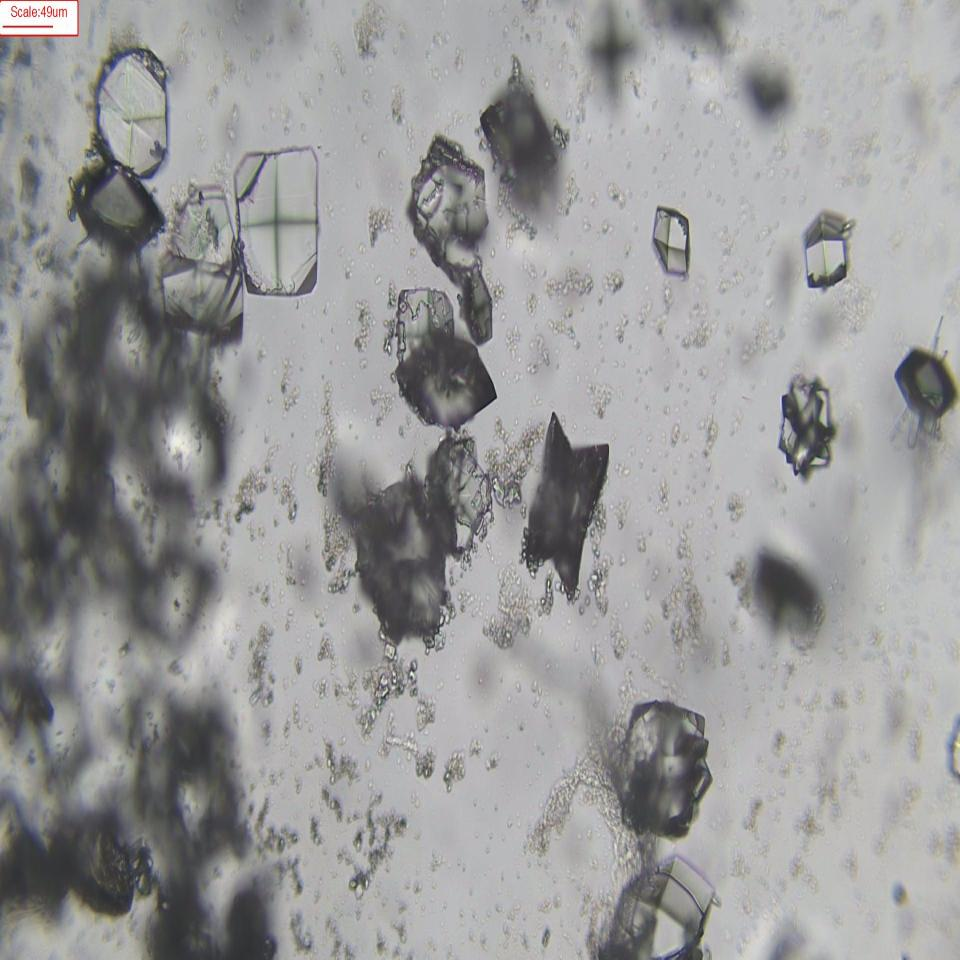crystal: (521, 404, 611, 614), (234, 149, 322, 297), (616, 704, 711, 829), (390, 336, 501, 431), (612, 855, 718, 954), (93, 55, 171, 176), (889, 336, 959, 432), (774, 367, 834, 471), (802, 214, 847, 290), (651, 204, 694, 282)
